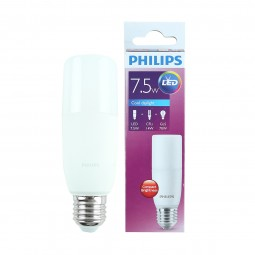Light_bulb: (59, 49, 119, 233)
